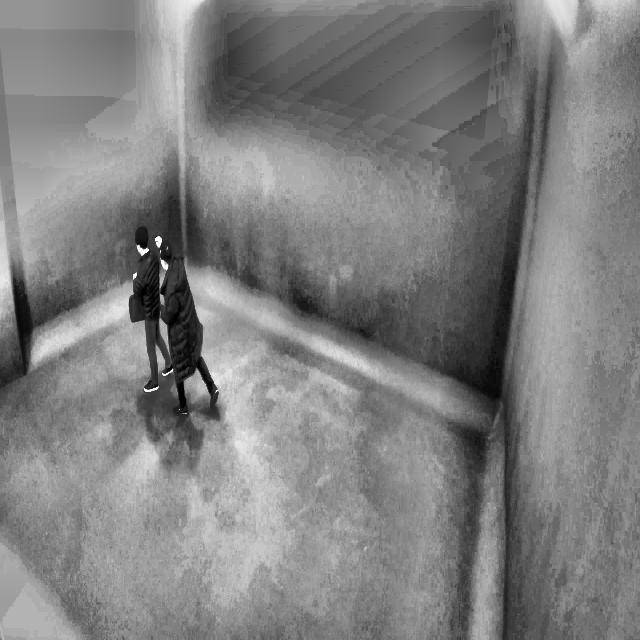assult: (130, 221, 217, 413)
